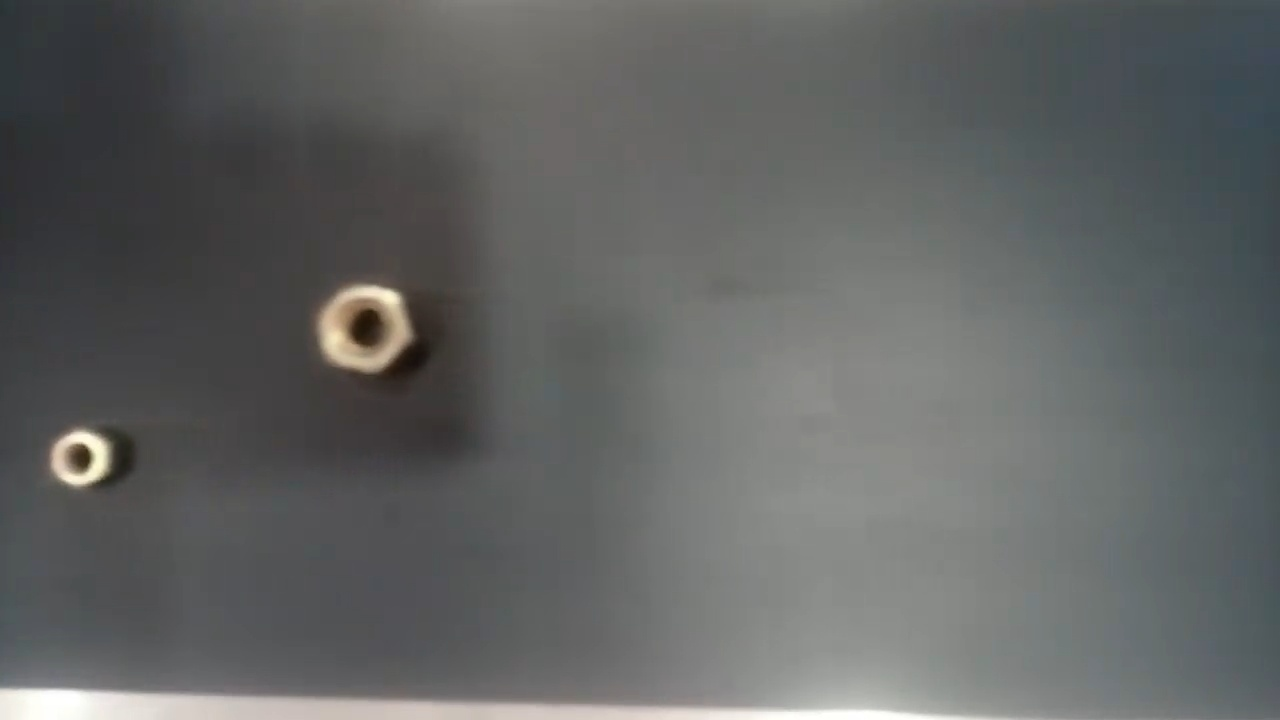Bolt: (310, 272, 426, 384), (47, 421, 126, 492)
